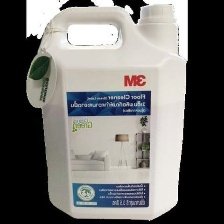cleaning_solution: (34, 0, 188, 223)
